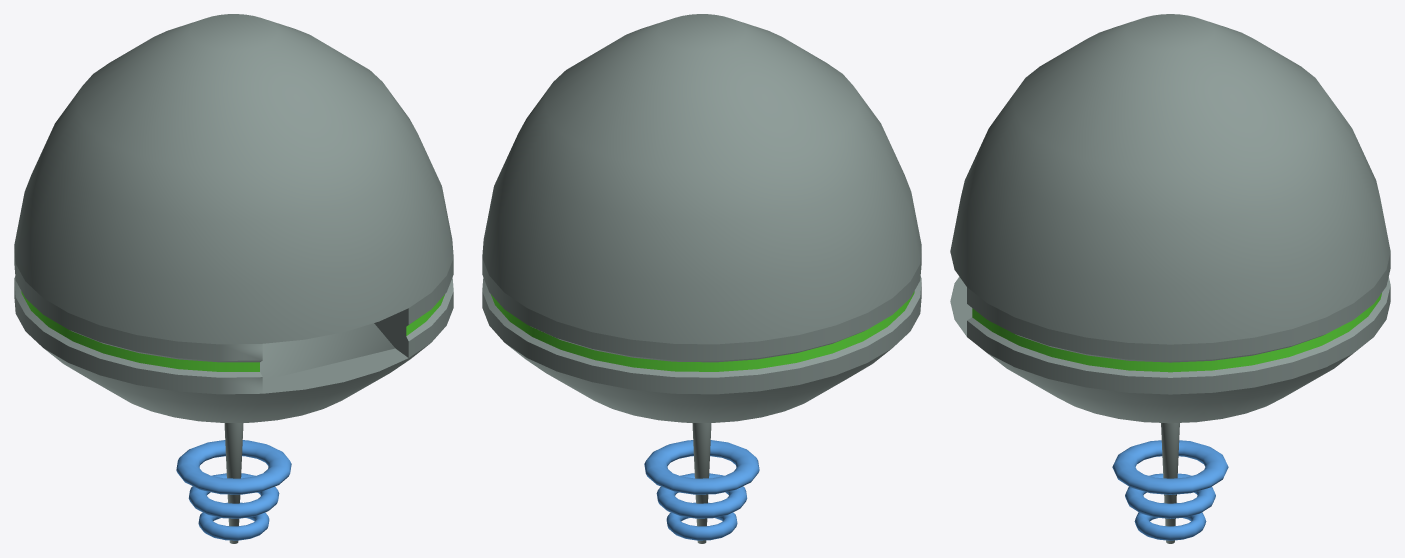
File: станция корпус.fbx
The picture shows the model from 3 angles, left to right: view 1: azimuth 30°, elevation 25°; view 2: azimuth 150°, elevation 25°; view 3: azimuth 270°, elevation 25°; orthographic projection.
Visible parts, largest first — view 1: Станция корпус; view 2: Станция корпус; view 3: Станция корпус.
Boxes of the visible parts, left/top/right/bottom form: Станция корпус: left=14, top=14, right=453, bottom=543; Станция корпус: left=482, top=14, right=921, bottom=543; Станция корпус: left=950, top=14, right=1390, bottom=543.
Bounding box in the file's own units: 5223 × 5223 × 6667.
